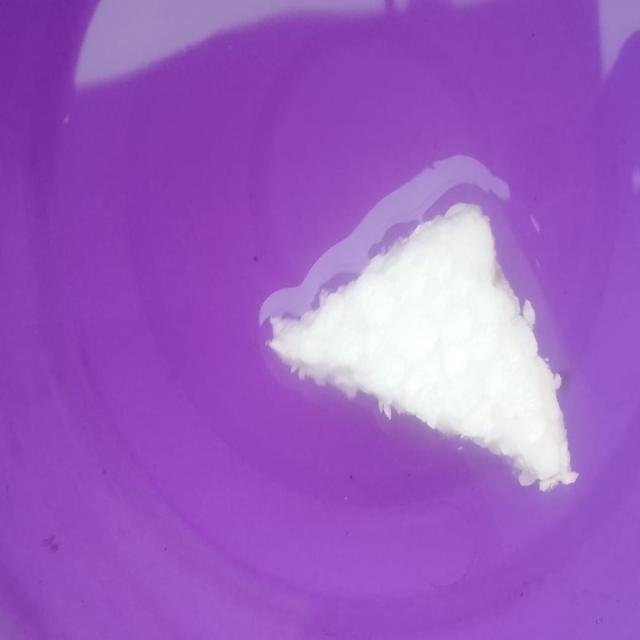thermocoal: (260, 188, 590, 497)
